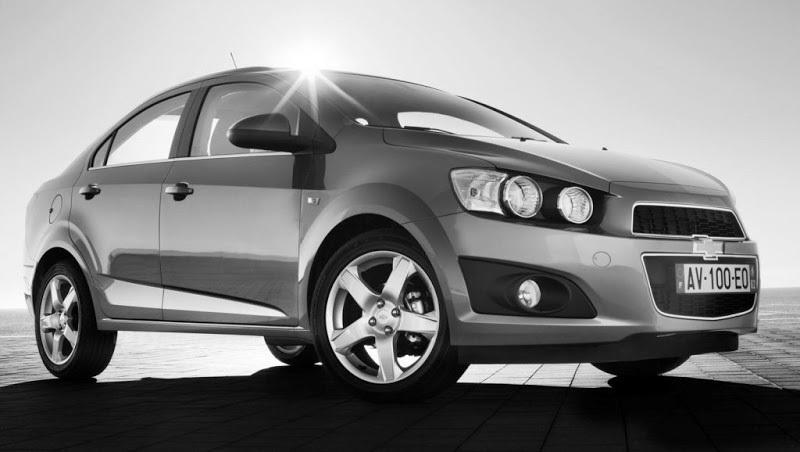car: (26, 65, 765, 387)
